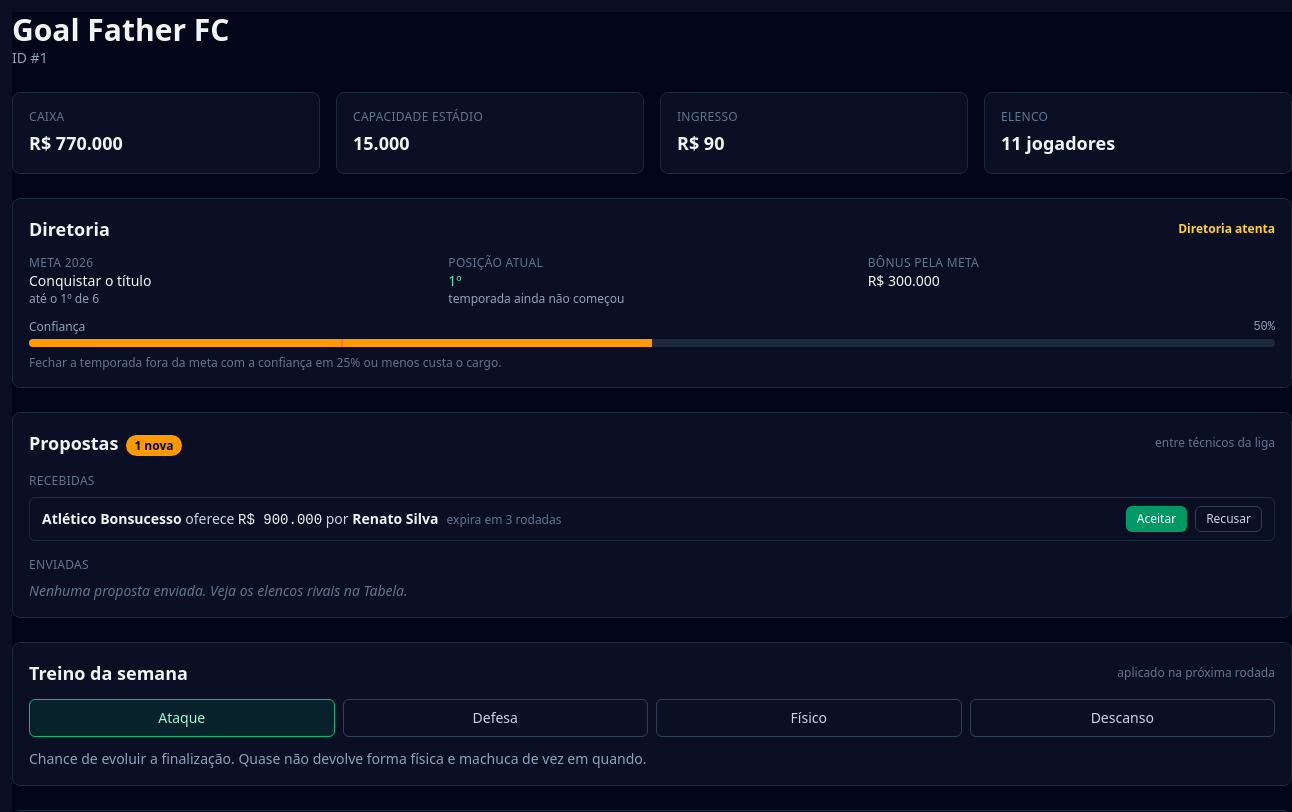
Test case: DashboardPage › lista a proposta recebida e a recusa (issue #63)
The image size is (1292, 812).
expect the heading "Propostas1 nova" is shown: met, box [29, 429, 182, 457]
expect the text "Atlético Bonsucesso" is shown: met, box [42, 508, 182, 528]
Click the button "Recusar": (1229, 519) [1195, 506, 1262, 532]
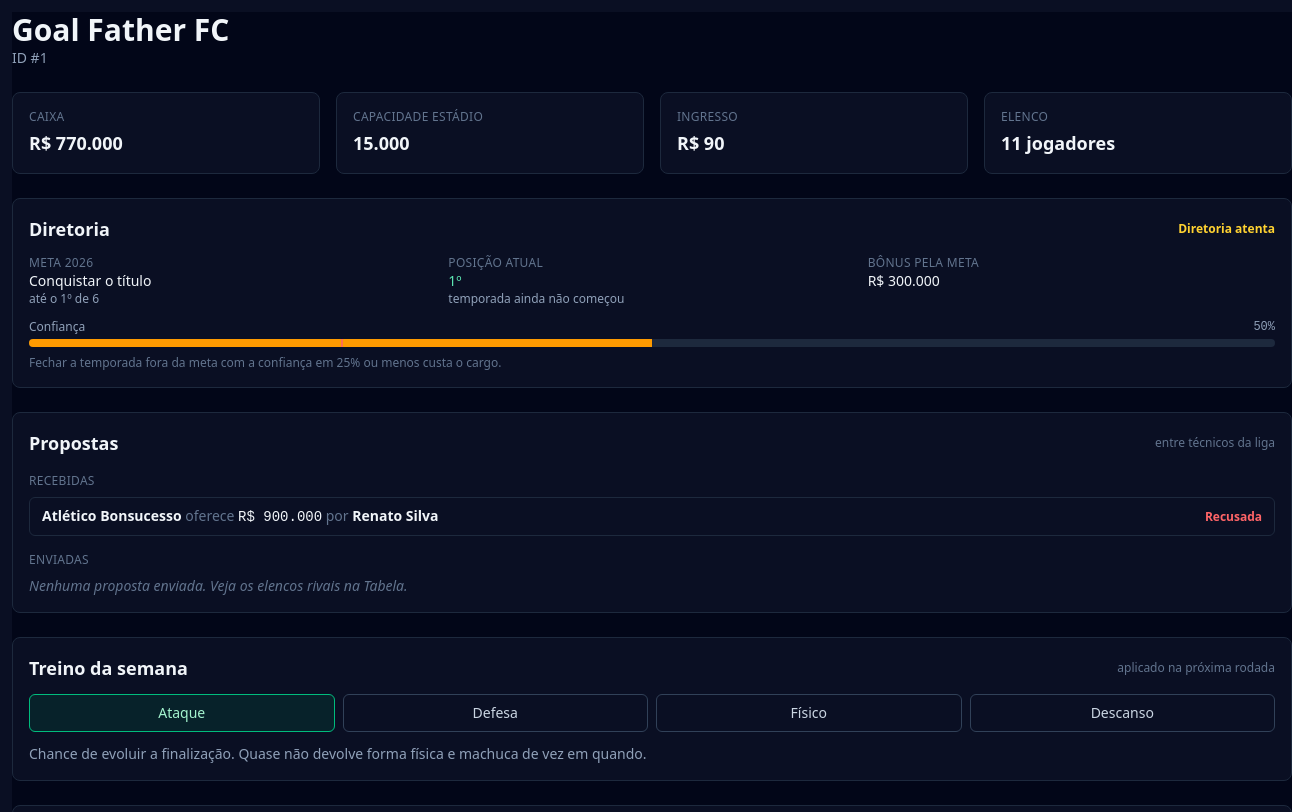
expect the text "Recusada" is shown: met, box [1205, 508, 1262, 524]
expect the button "Aceitar" is gone: met
